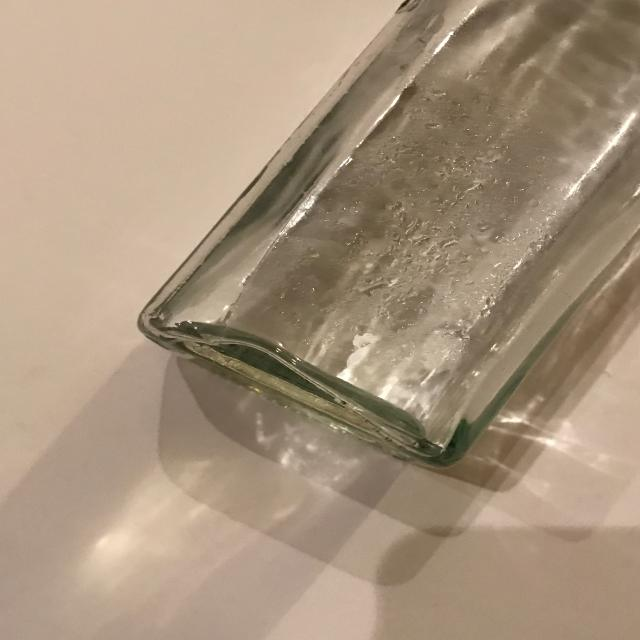glass: (136, 0, 639, 471)
